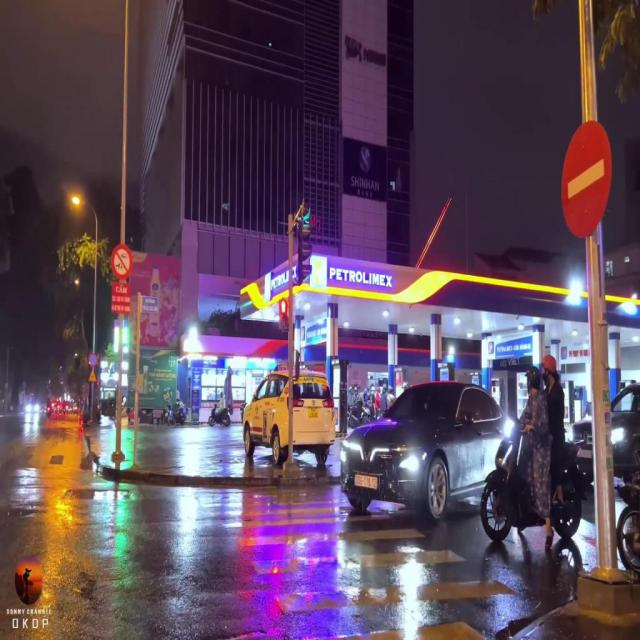cam_cac_loai_xe_3_banh: (110, 243, 134, 281)
cam_do_xe: (89, 352, 98, 368)
chu_y_tre_em: (88, 369, 96, 382)
